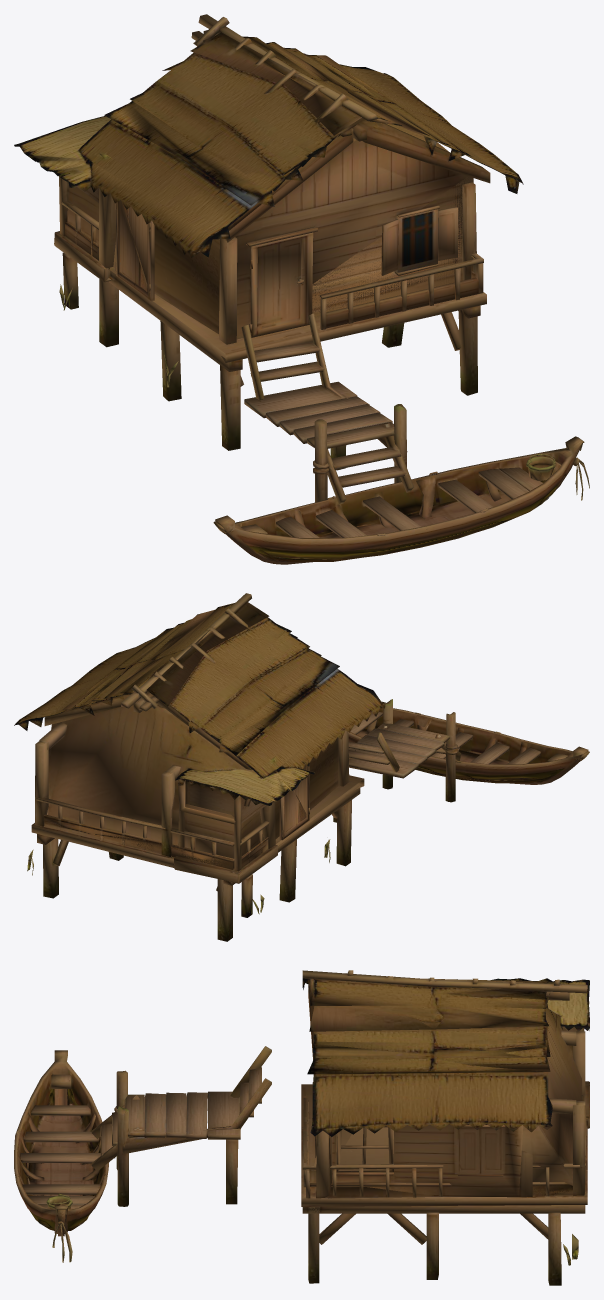
3 views of the same model, one above another, from view 1: azimuth 30°, elevation 25°; view 2: azimuth 150°, elevation 25°; view 3: azimuth 270°, elevation 25° (orthographic). The views are drawn at different scales.
Parts seen in each view (by area): view 1: tripo_node_24decc86-eee4-4ec5-90b6-0e477f13e738; view 2: tripo_node_24decc86-eee4-4ec5-90b6-0e477f13e738; view 3: tripo_node_24decc86-eee4-4ec5-90b6-0e477f13e738.
Boxes of the visible parts, <box> form: tripo_node_24decc86-eee4-4ec5-90b6-0e477f13e738: <box>14,14,589,564</box>; tripo_node_24decc86-eee4-4ec5-90b6-0e477f13e738: <box>14,593,589,941</box>; tripo_node_24decc86-eee4-4ec5-90b6-0e477f13e738: <box>14,970,589,1285</box>.
Size of the model in its own units: 0.7871 by 0.5098 by 0.998.
1 material, 1 textured.
